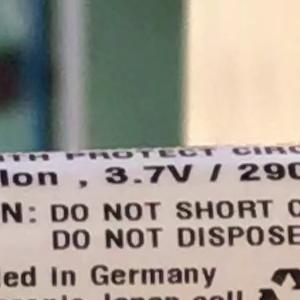3.7V: (95, 155, 199, 194)
